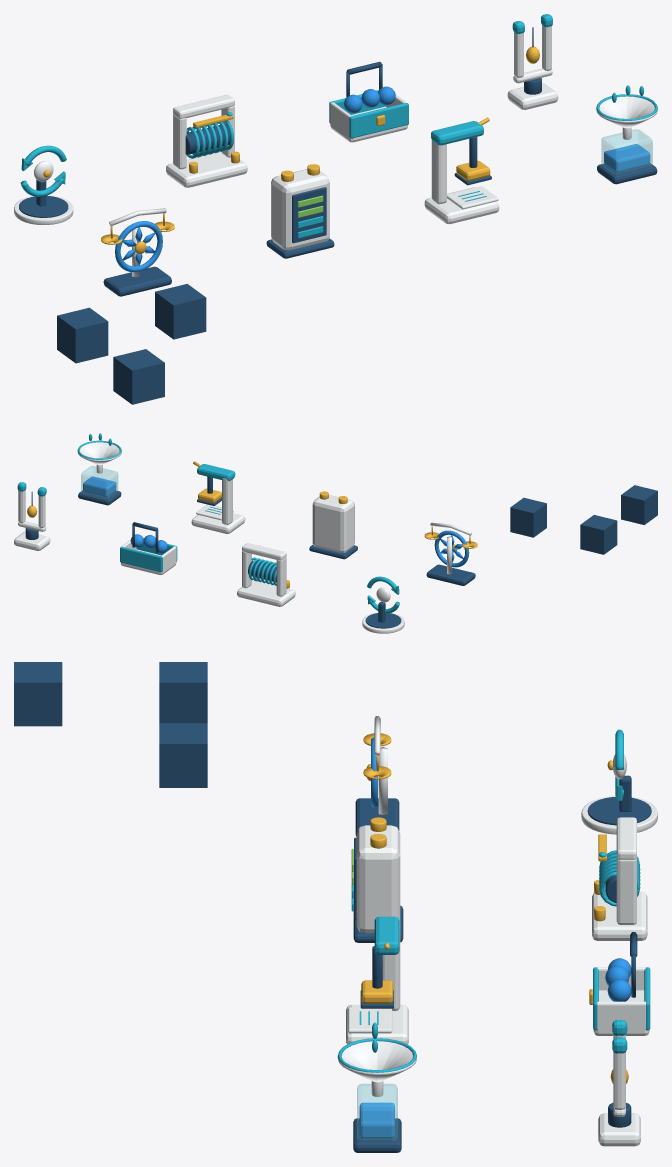
The model's file is catalog-007.glb.
The picture shows the model from 3 angles, top to bottom: view 1: azimuth 30°, elevation 25°; view 2: azimuth 150°, elevation 25°; view 3: azimuth 270°, elevation 25°; orthographic projection. The views are drawn at different scales.
Parts seen in each view (by area): view 1: relay__Fixed_pearl_04, quota_bonus__Fixed_pearl_05, pulse_cell__Fixed_pearl_05, catalog_007__calibration_origin, catalog_007__calibration_front, catalog_007__calibration_right, rain_catcher__Fixed_glass_03, pulse_cell__Fixed_dark_01, reserve_pack__Fixed_teal_07, rain_catcher__Fixed_pearl_04, pearl_turbine__EvolvedRotor_blue_01, pearl_turbine__Fixed_dark_02 (+10 smaller); view 2: pulse_cell__Fixed_pearl_05, relay__Fixed_pearl_04, quota_bonus__Fixed_pearl_05, catalog_007__calibration_origin, catalog_007__calibration_right, catalog_007__calibration_front, rain_catcher__Fixed_glass_03, reserve_pack__Fixed_teal_07, rain_catcher__Fixed_pearl_04, pearl_turbine__Fixed_dark_02, pearl_turbine__EvolvedRotor_blue_01, resonator__Fixed_pearl_03 (+8 smaller); view 3: pulse_cell__Fixed_pearl_05, relay__Fixed_pearl_04, catalog_007__calibration_right, catalog_007__calibration_front, catalog_007__calibration_origin, quota_bonus__Fixed_pearl_05, rain_catcher__Fixed_pearl_04, reserve_pack__Fixed_pearl_06, rain_catcher__Fixed_glass_03, recovery__Fixed_dark_01, rain_catcher__RainWater_blue_01, resonator__Fixed_pearl_03 (+8 smaller).
Boxes of the visible parts, x1,y1,x2,y2 form: relay__Fixed_pearl_04: (166, 94, 247, 187); quota_bonus__Fixed_pearl_05: (424, 140, 499, 224); pulse_cell__Fixed_pearl_05: (271, 169, 329, 250); catalog_007__calibration_origin: (57, 307, 108, 363); catalog_007__calibration_front: (113, 349, 164, 404); catalog_007__calibration_right: (155, 284, 206, 339); rain_catcher__Fixed_glass_03: (601, 129, 652, 174); pulse_cell__Fixed_dark_01: (266, 187, 334, 258); reserve_pack__Fixed_teal_07: (329, 90, 408, 138); rain_catcher__Fixed_pearl_04: (596, 96, 657, 139); pearl_turbine__EvolvedRotor_blue_01: (115, 221, 162, 272); pearl_turbine__Fixed_dark_02: (103, 266, 171, 296); pulse_cell__Fixed_pearl_05: (312, 495, 354, 553); relay__Fixed_pearl_04: (237, 543, 295, 606); quota_bonus__Fixed_pearl_05: (191, 478, 245, 533); catalog_007__calibration_origin: (580, 515, 617, 554); catalog_007__calibration_right: (510, 497, 546, 537); catalog_007__calibration_front: (621, 485, 657, 524); rain_catcher__Fixed_glass_03: (81, 466, 117, 498); reserve_pack__Fixed_teal_07: (120, 538, 177, 572); rain_catcher__Fixed_pearl_04: (77, 442, 121, 473); pearl_turbine__Fixed_dark_02: (426, 564, 475, 585); pearl_turbine__EvolvedRotor_blue_01: (434, 530, 469, 567); resonator__Fixed_pearl_03: (14, 521, 50, 550); pulse_cell__Fixed_pearl_05: (356, 825, 400, 933); relay__Fixed_pearl_04: (592, 817, 647, 940); catalog_007__calibration_right: (159, 723, 207, 787); catalog_007__calibration_front: (14, 662, 62, 726); catalog_007__calibration_origin: (159, 662, 207, 723); quota_bonus__Fixed_pearl_05: (346, 924, 408, 1044); rain_catcher__Fixed_pearl_04: (337, 1041, 416, 1096); reserve_pack__Fixed_pearl_06: (593, 967, 649, 1035); rain_catcher__Fixed_glass_03: (357, 1084, 397, 1141); recovery__Fixed_dark_01: (587, 775, 651, 825); rain_catcher__RainWater_blue_01: (359, 1102, 394, 1138); resonator__Fixed_pearl_03: (598, 1107, 640, 1146).
Bounding box in the file's own units: 5.69 × 0.7336 × 3.72.
